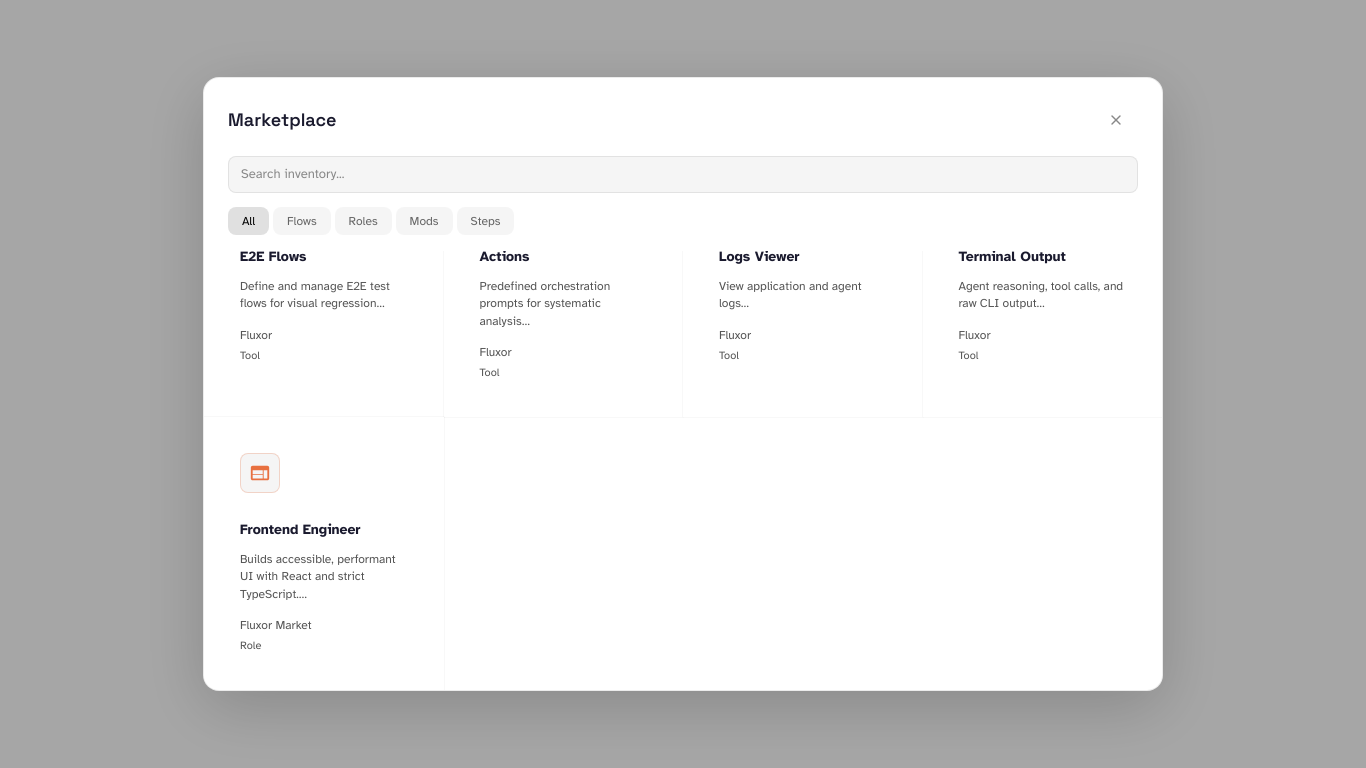
MarketplaceApp — card click opens the product sheet › omits Better on / Domains rows when the role fixture lacks that (optional) metadata
The image size is (1366, 768).
(page scrolled)
Step 1. Click the button with aria-label "View details for Frontend Engineer — Role by Fluxor Market" → (324, 554), box [204,417,444,690]
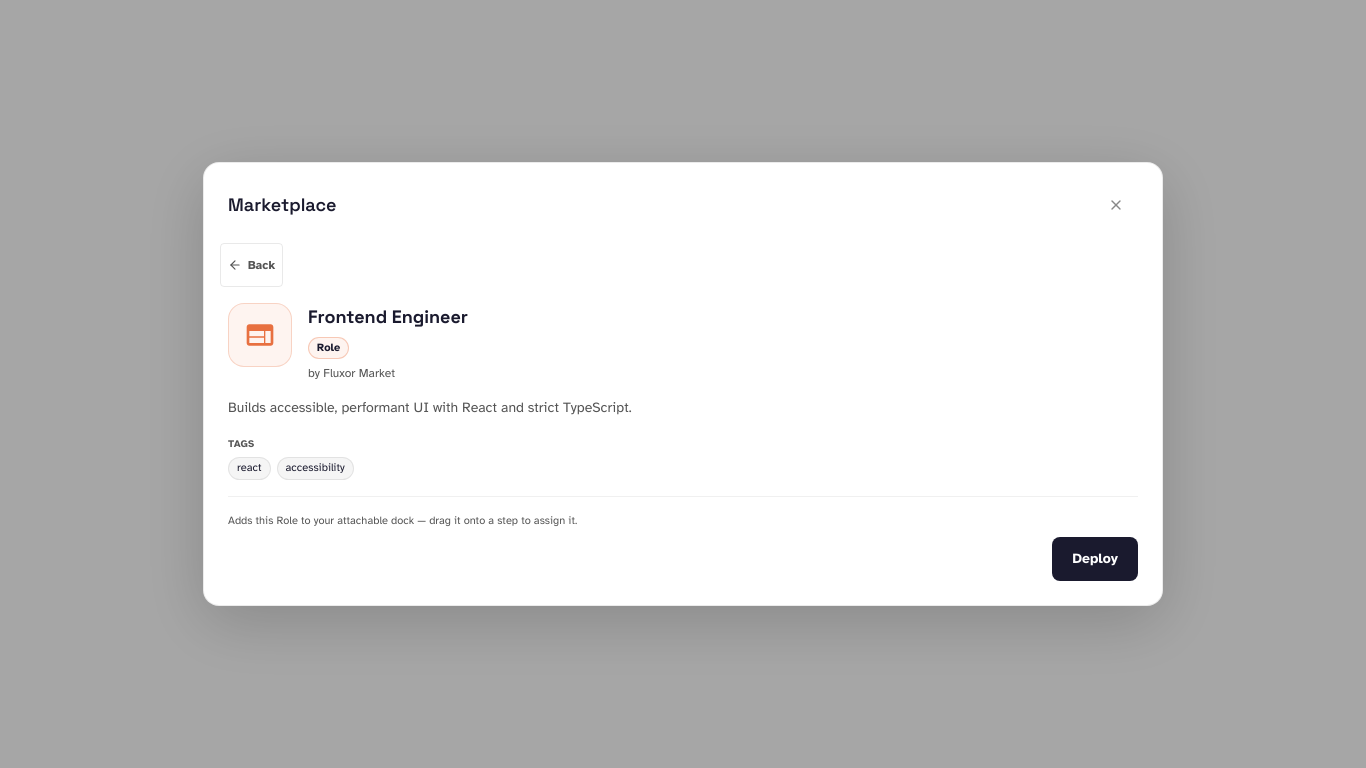
Now the element with test id "plugin-sheet" is shown, box [204,243,1162,605]
